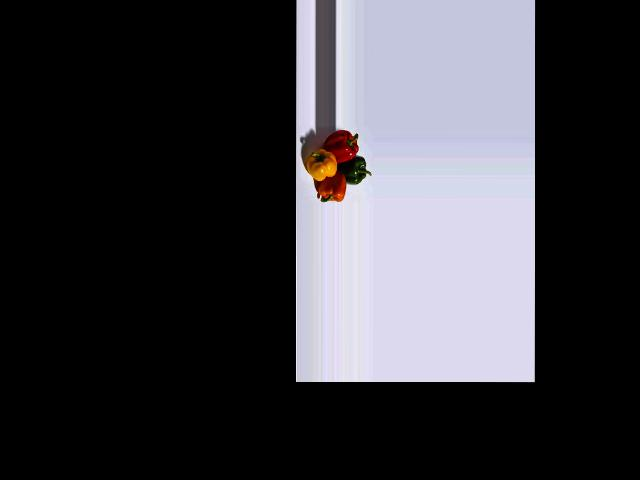bell_pepper: (323, 128, 362, 162)
